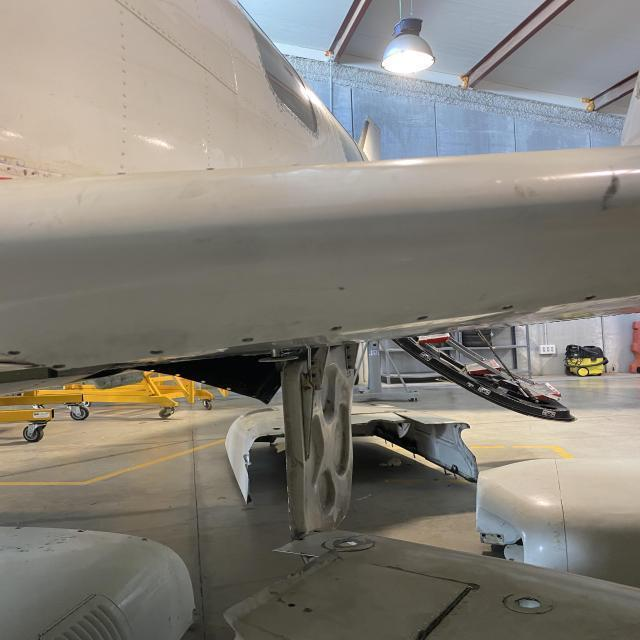Missing_Fastener: (242, 336, 260, 346), (326, 324, 344, 334), (582, 293, 600, 303), (50, 363, 68, 372), (499, 303, 514, 313), (148, 349, 166, 357), (416, 312, 428, 324), (6, 349, 22, 357)
